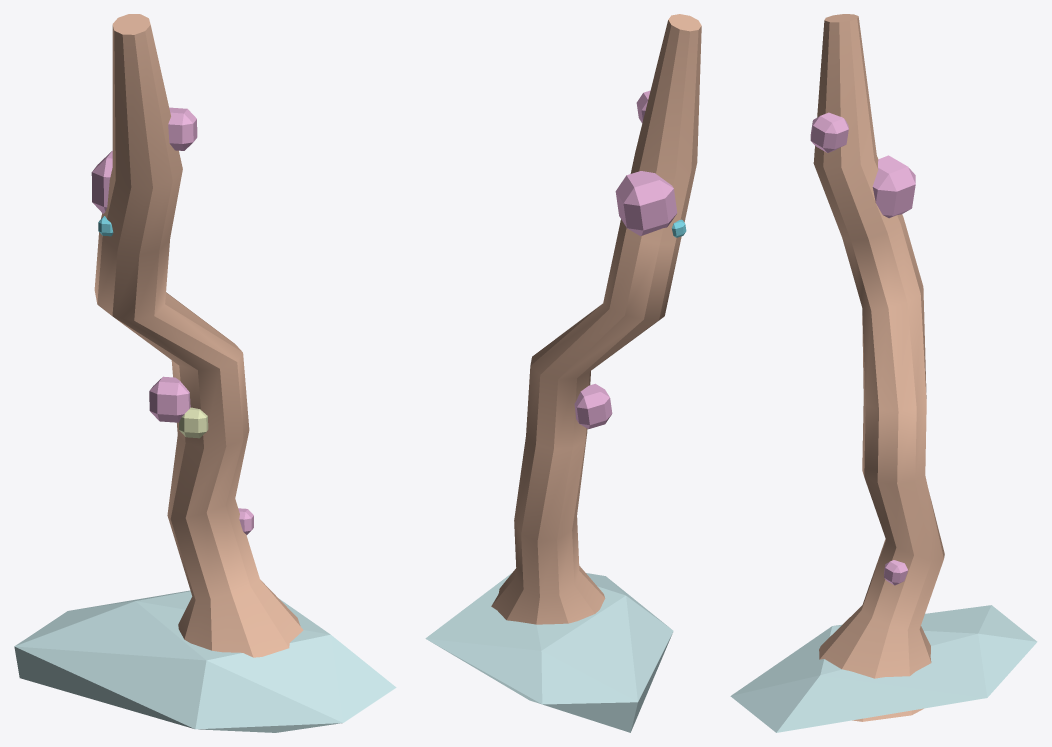
The model's file is LargeStickThing2.fbx.
The picture shows the model from 3 angles, left to right: view 1: azimuth 30°, elevation 25°; view 2: azimuth 150°, elevation 25°; view 3: azimuth 270°, elevation 25°; orthographic projection. The views are drawn at different scales.
Parts seen in each view (by area): view 1: group20_pasted__group16_pasted__pasted__group12_pasted__past; view 2: group20_pasted__group16_pasted__pasted__group12_pasted__past; view 3: group20_pasted__group16_pasted__pasted__group12_pasted__past.
Boxes of the visible parts, x1,y1,x2,y2 form: group20_pasted__group16_pasted__pasted__group12_pasted__past: (14, 14, 396, 732); group20_pasted__group16_pasted__pasted__group12_pasted__past: (425, 14, 701, 732); group20_pasted__group16_pasted__pasted__group12_pasted__past: (730, 14, 1037, 732).
Size of the model in its own units: 1.26 by 3.32 by 1.45.
